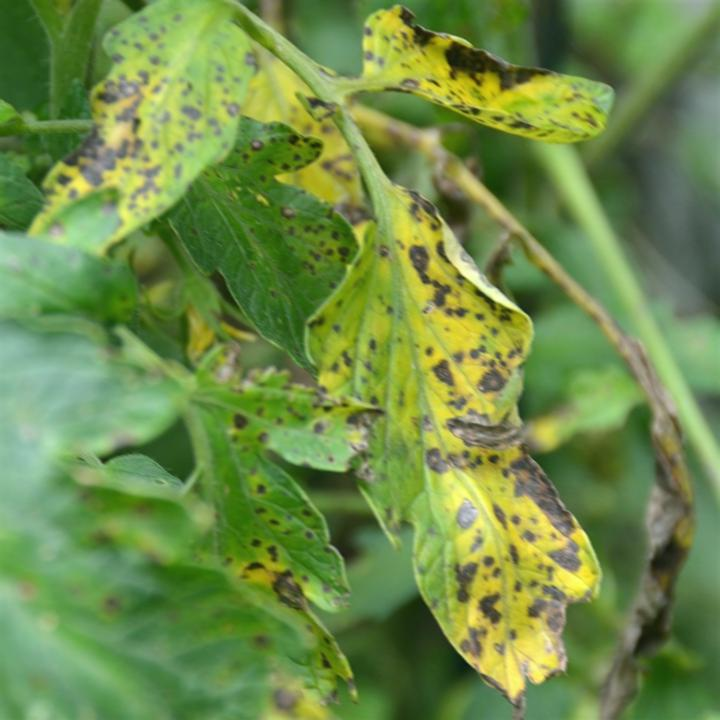Tomato Septoria leaf spot: (310, 169, 635, 702), (152, 344, 361, 703), (24, 6, 244, 253), (345, 10, 617, 147)
